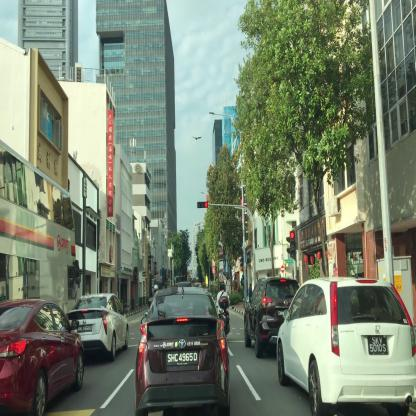red_traffic_light: (290, 231, 296, 257), (197, 201, 208, 207)
